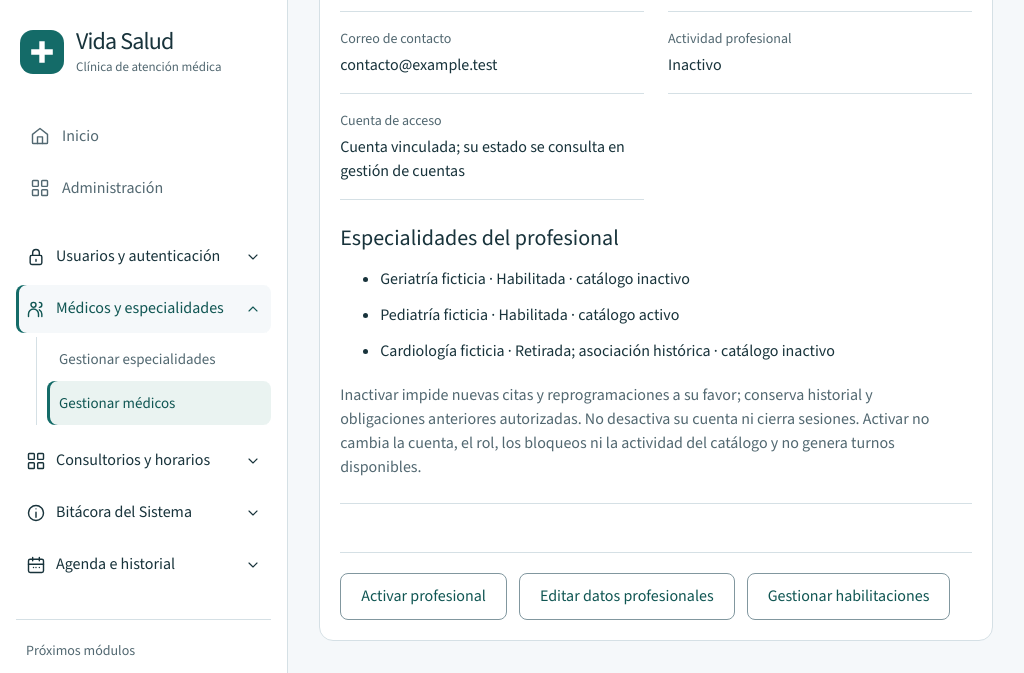
actividad e historial de habilitaciones CU-10 fase 4 › actividad desde false exige confirmar y reconsulta sin tocar cuenta ni asociaciones
(page scrolled)
Click the button "Activar profesional" at (424, 597), box x1=340 y1=573 x2=507 y2=620
(page scrolled)
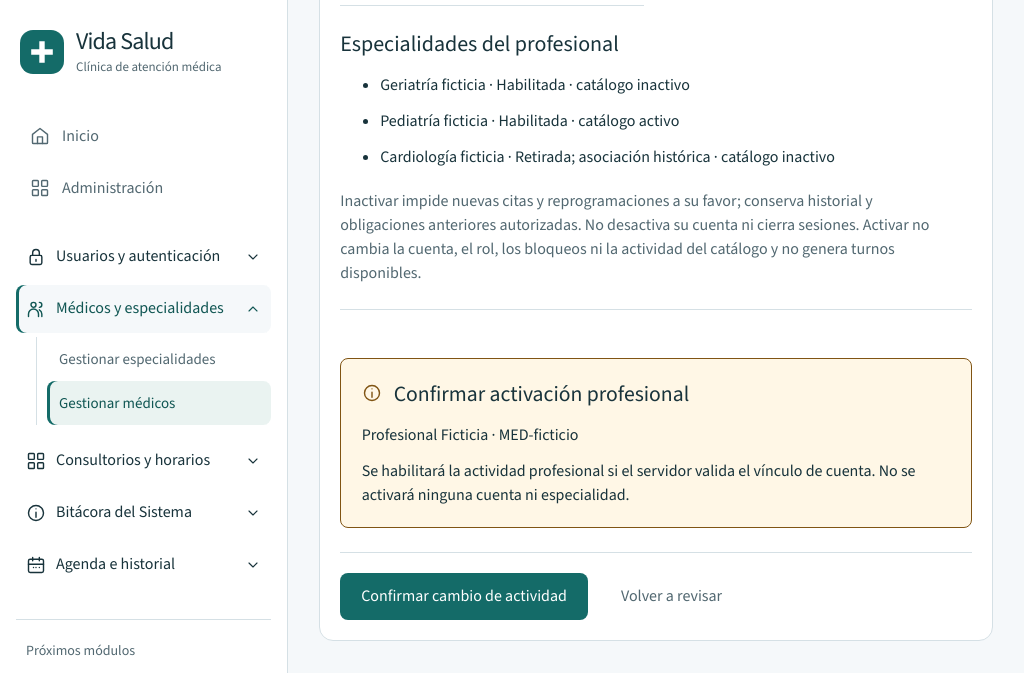
Click the button "Volver a revisar" at (672, 597), box x1=600 y1=574 x2=743 y2=620
(page scrolled)
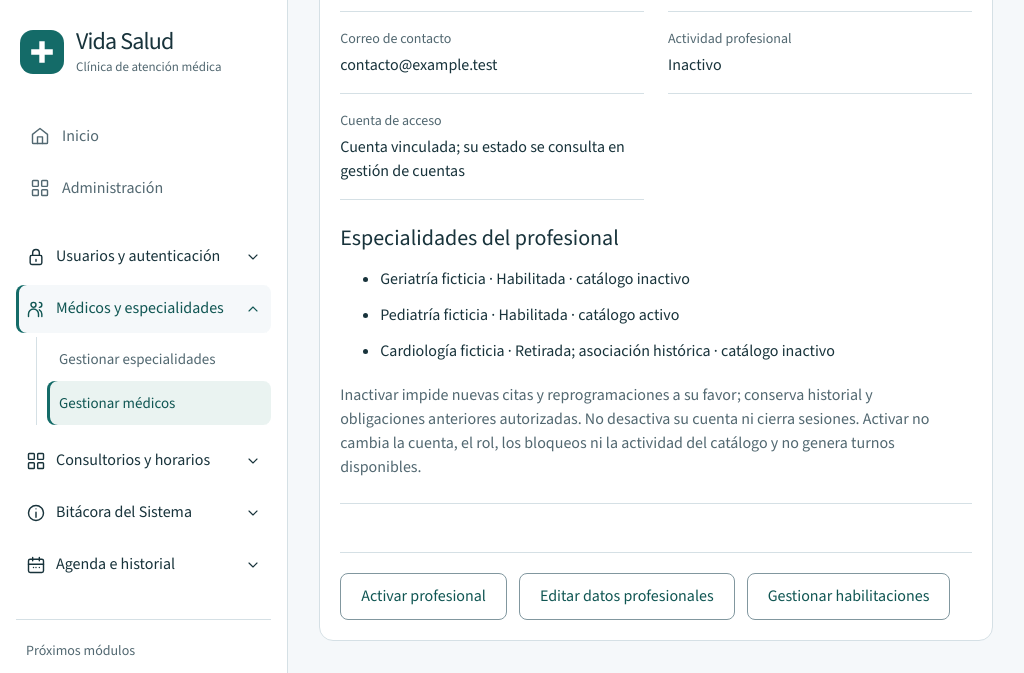
Click the button "Activar profesional" at (424, 597), box x1=340 y1=573 x2=507 y2=620
(page scrolled)
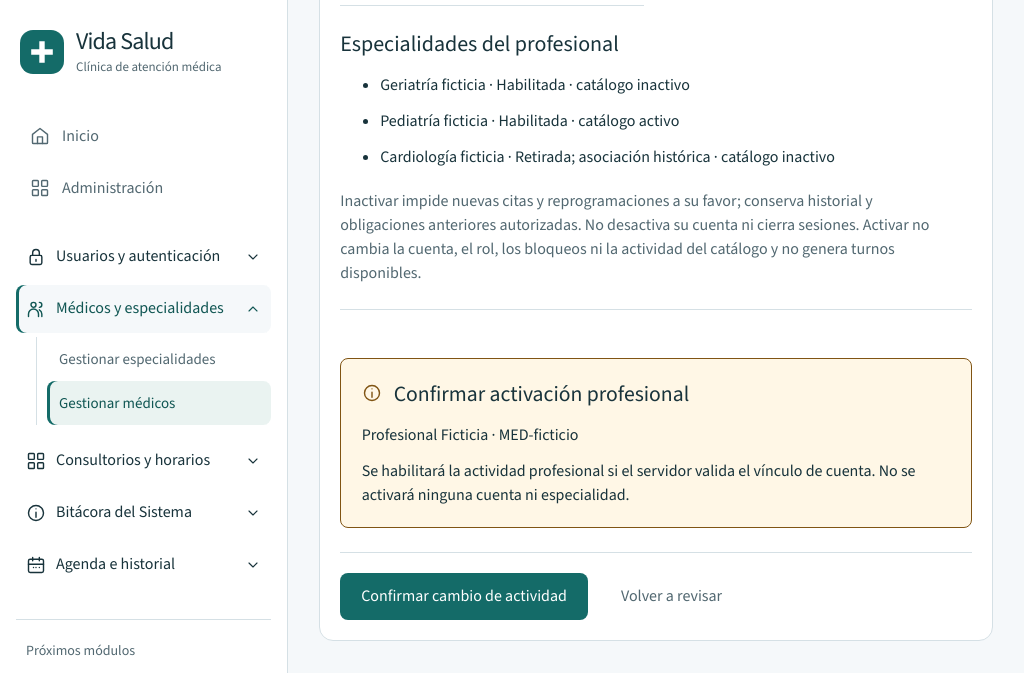
Click the button "Confirmar cambio de actividad" at (464, 597), box x1=340 y1=574 x2=588 y2=620
(page scrolled)
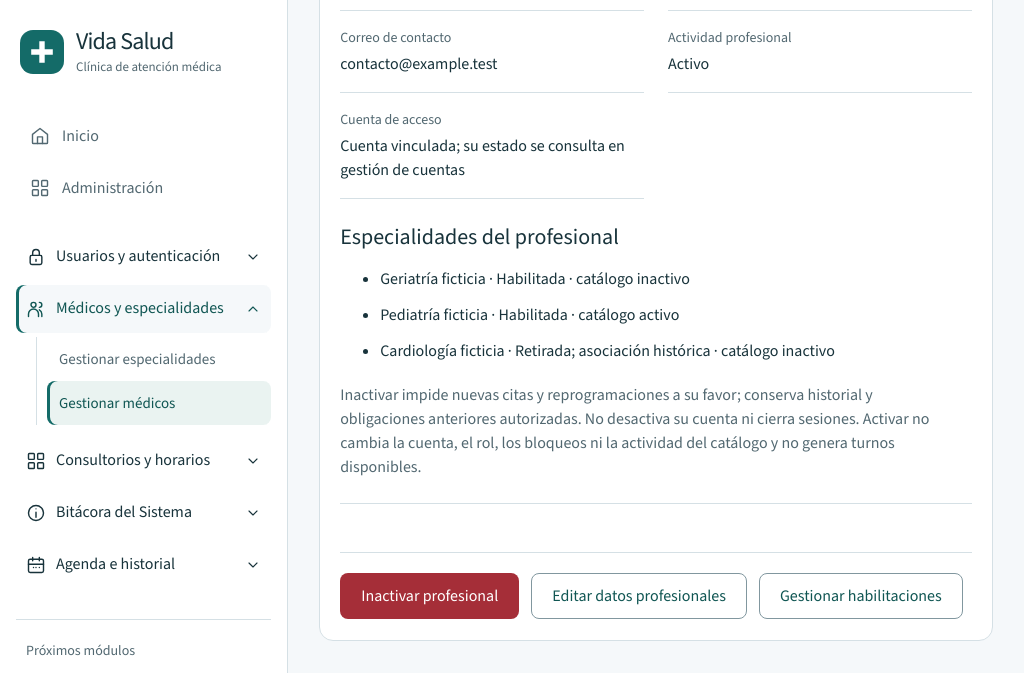
Now the button "Inactivar profesional" is shown, box x1=340 y1=573 x2=519 y2=619
